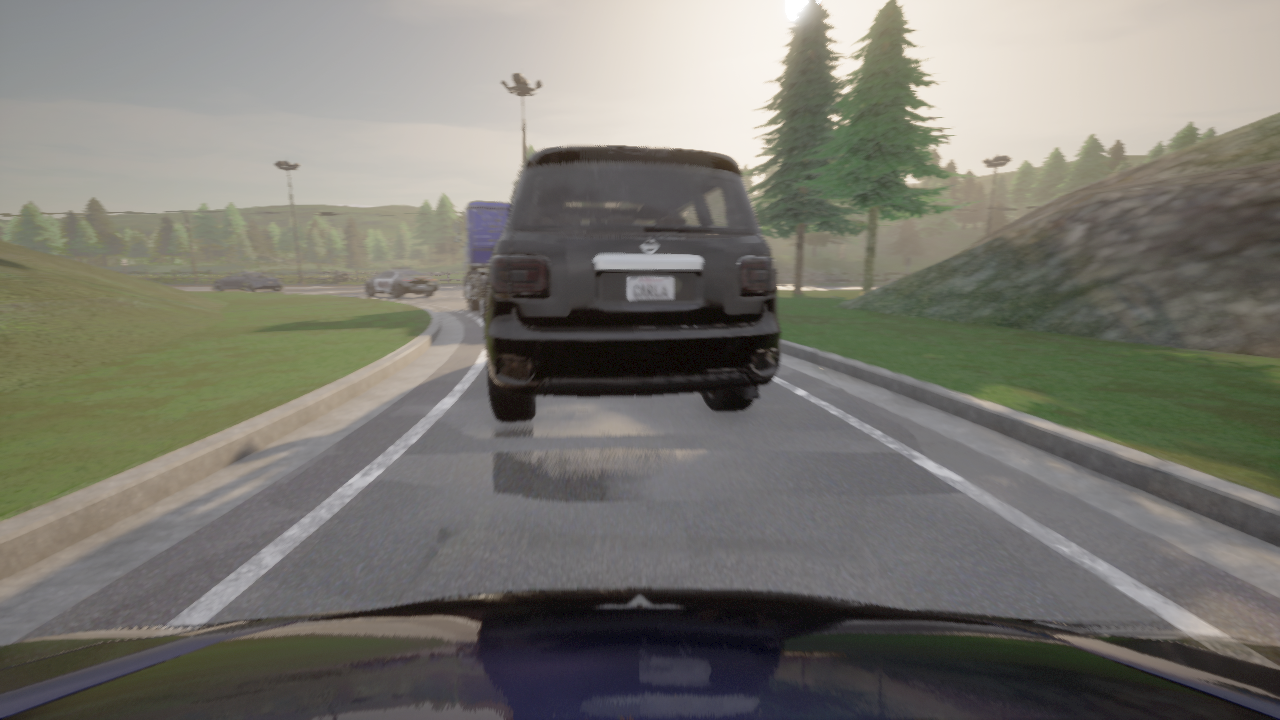cyclist: (0, 588, 1279, 719), (484, 146, 780, 420), (453, 201, 510, 322), (365, 267, 438, 297), (212, 271, 282, 291)
